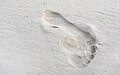human_footprint: (42, 10, 96, 67)
